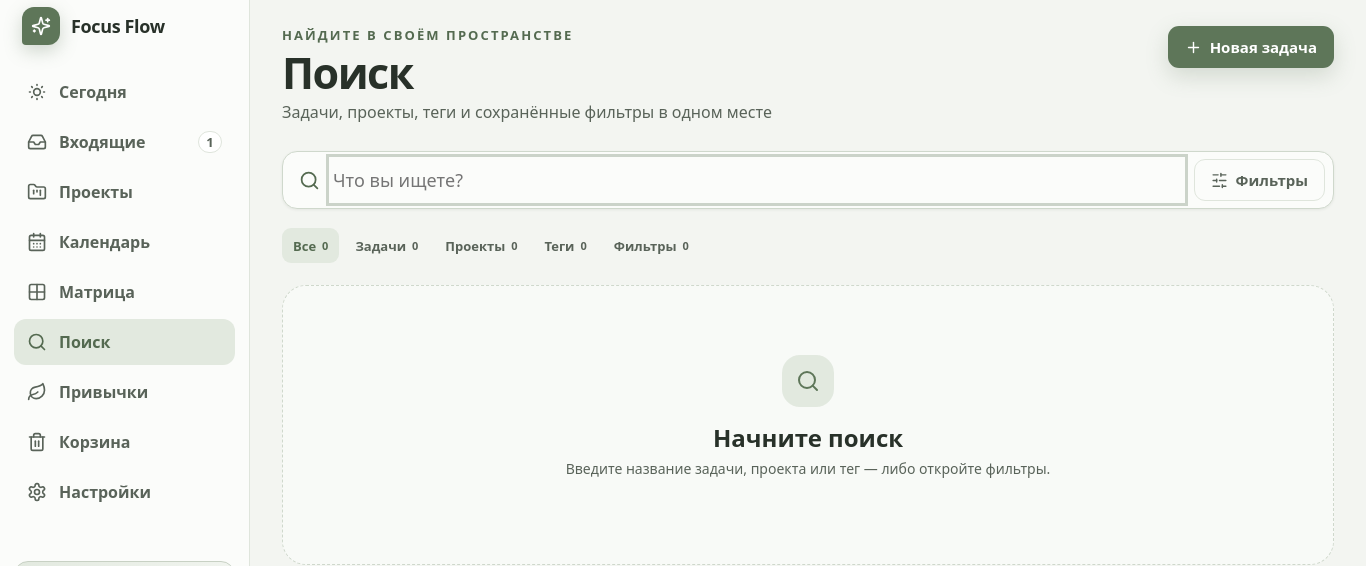
Test: new workspace pages › opens a project result as an addressable project route
In the field named "Глобальный поиск": (757, 180) [331,159,1183,201], type "Работа"
(page scrolled)
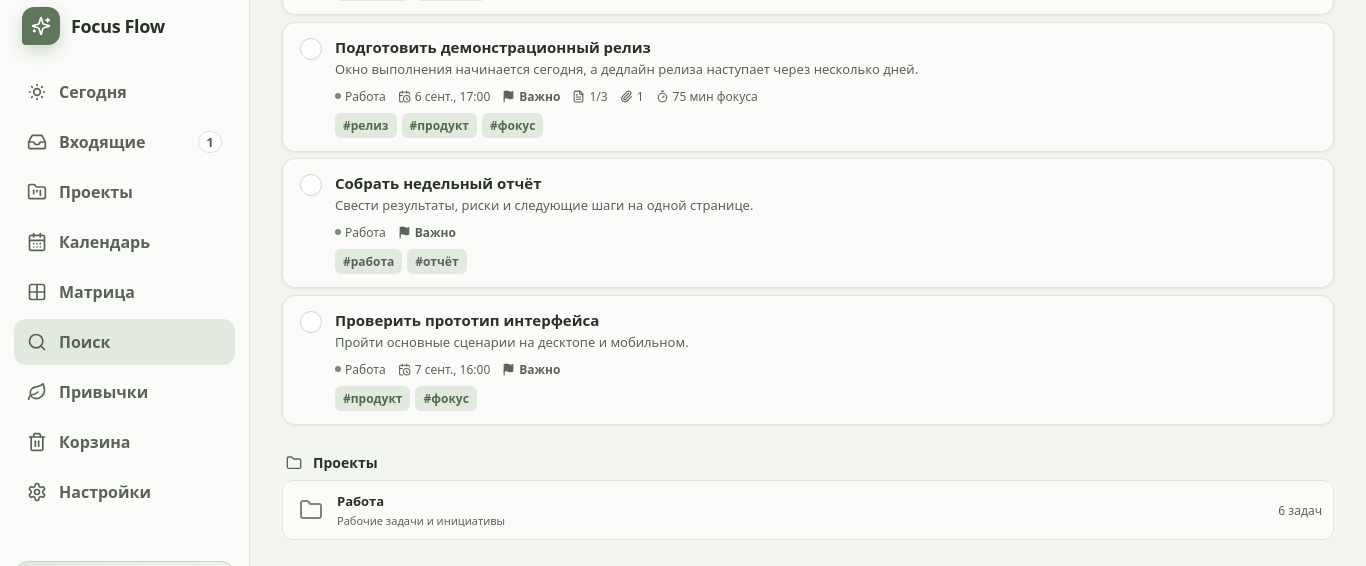
Click the link with aria-label "Открыть проект Работа": click(361, 501) [282,480,1334,540]
(page scrolled)
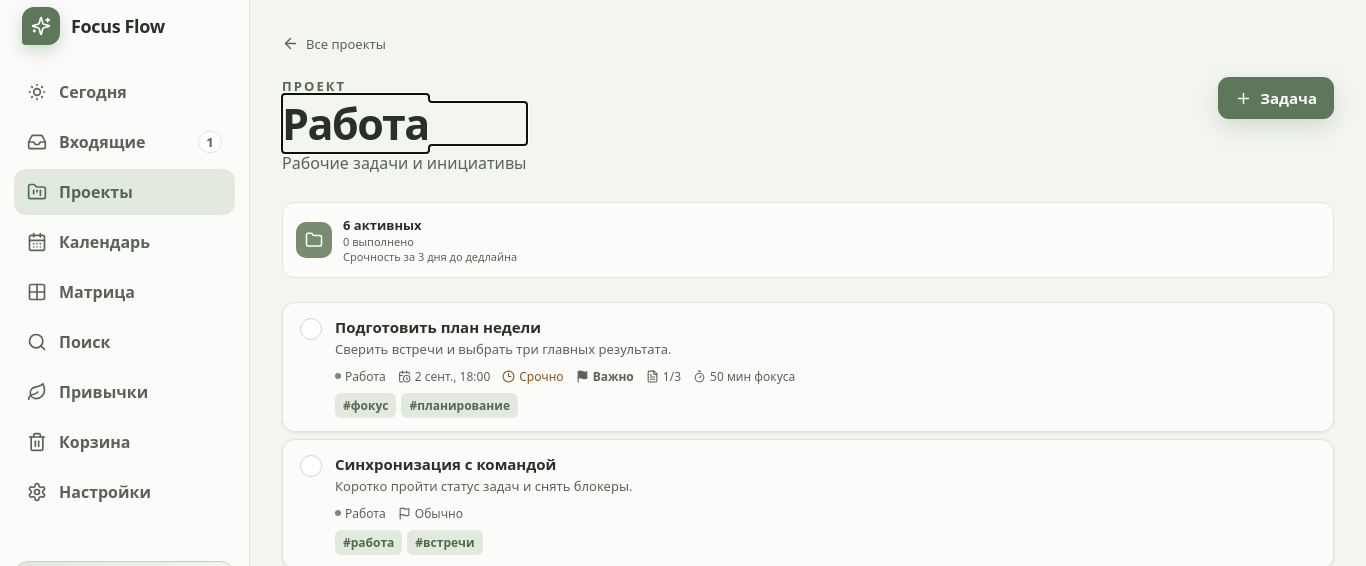
expect the heading "Работа" is shown: met, box [282,94,429,153]
